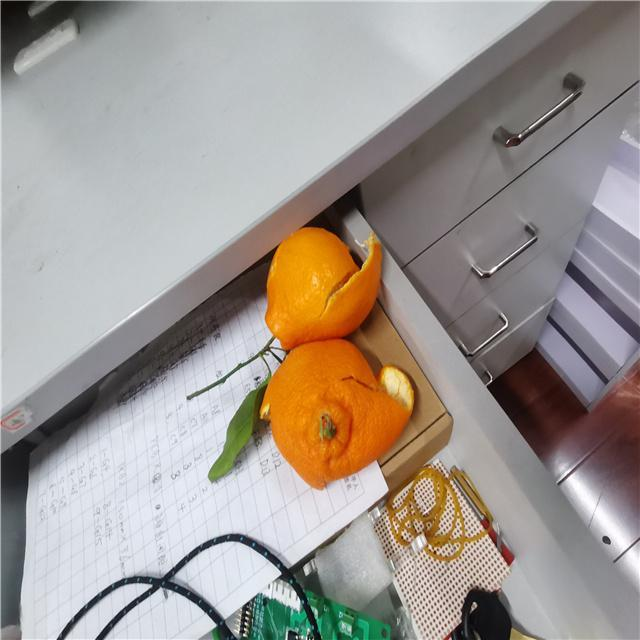orange-peel: (260, 337, 414, 489), (263, 225, 382, 349)
